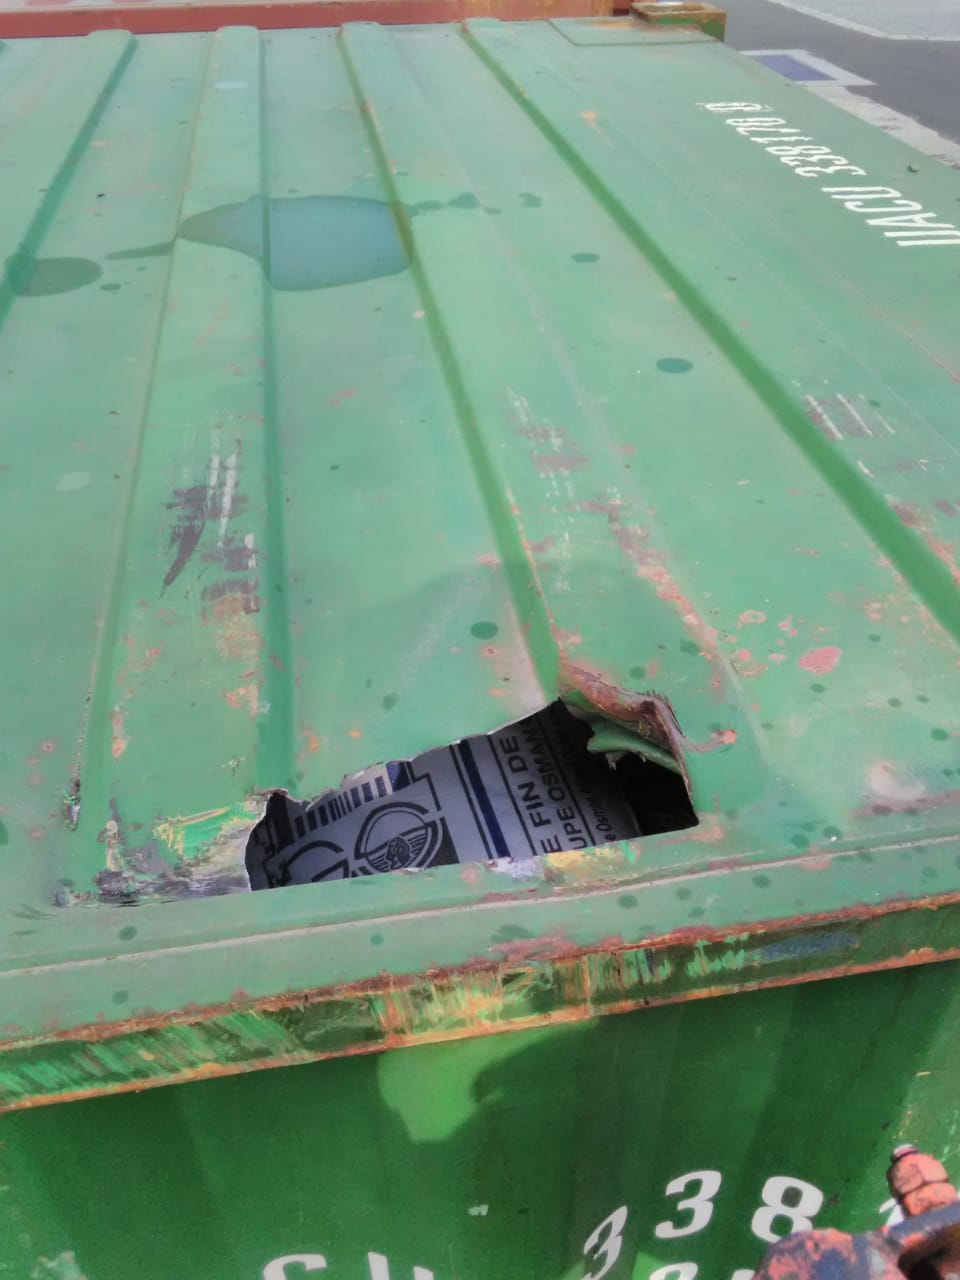hole: (152, 657, 756, 976)
